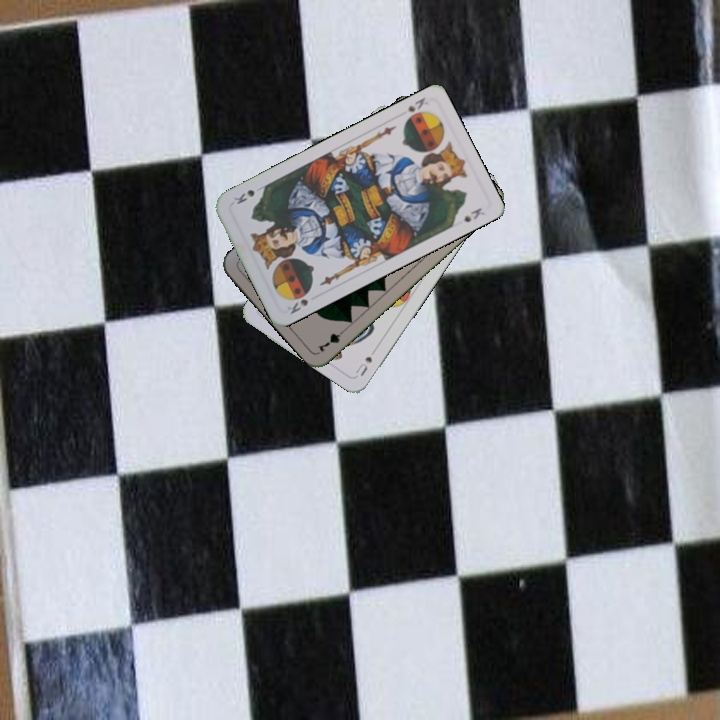G7: (314, 323, 349, 355)
SK: (401, 93, 431, 124), (283, 295, 311, 317)
SU: (351, 352, 375, 379)
